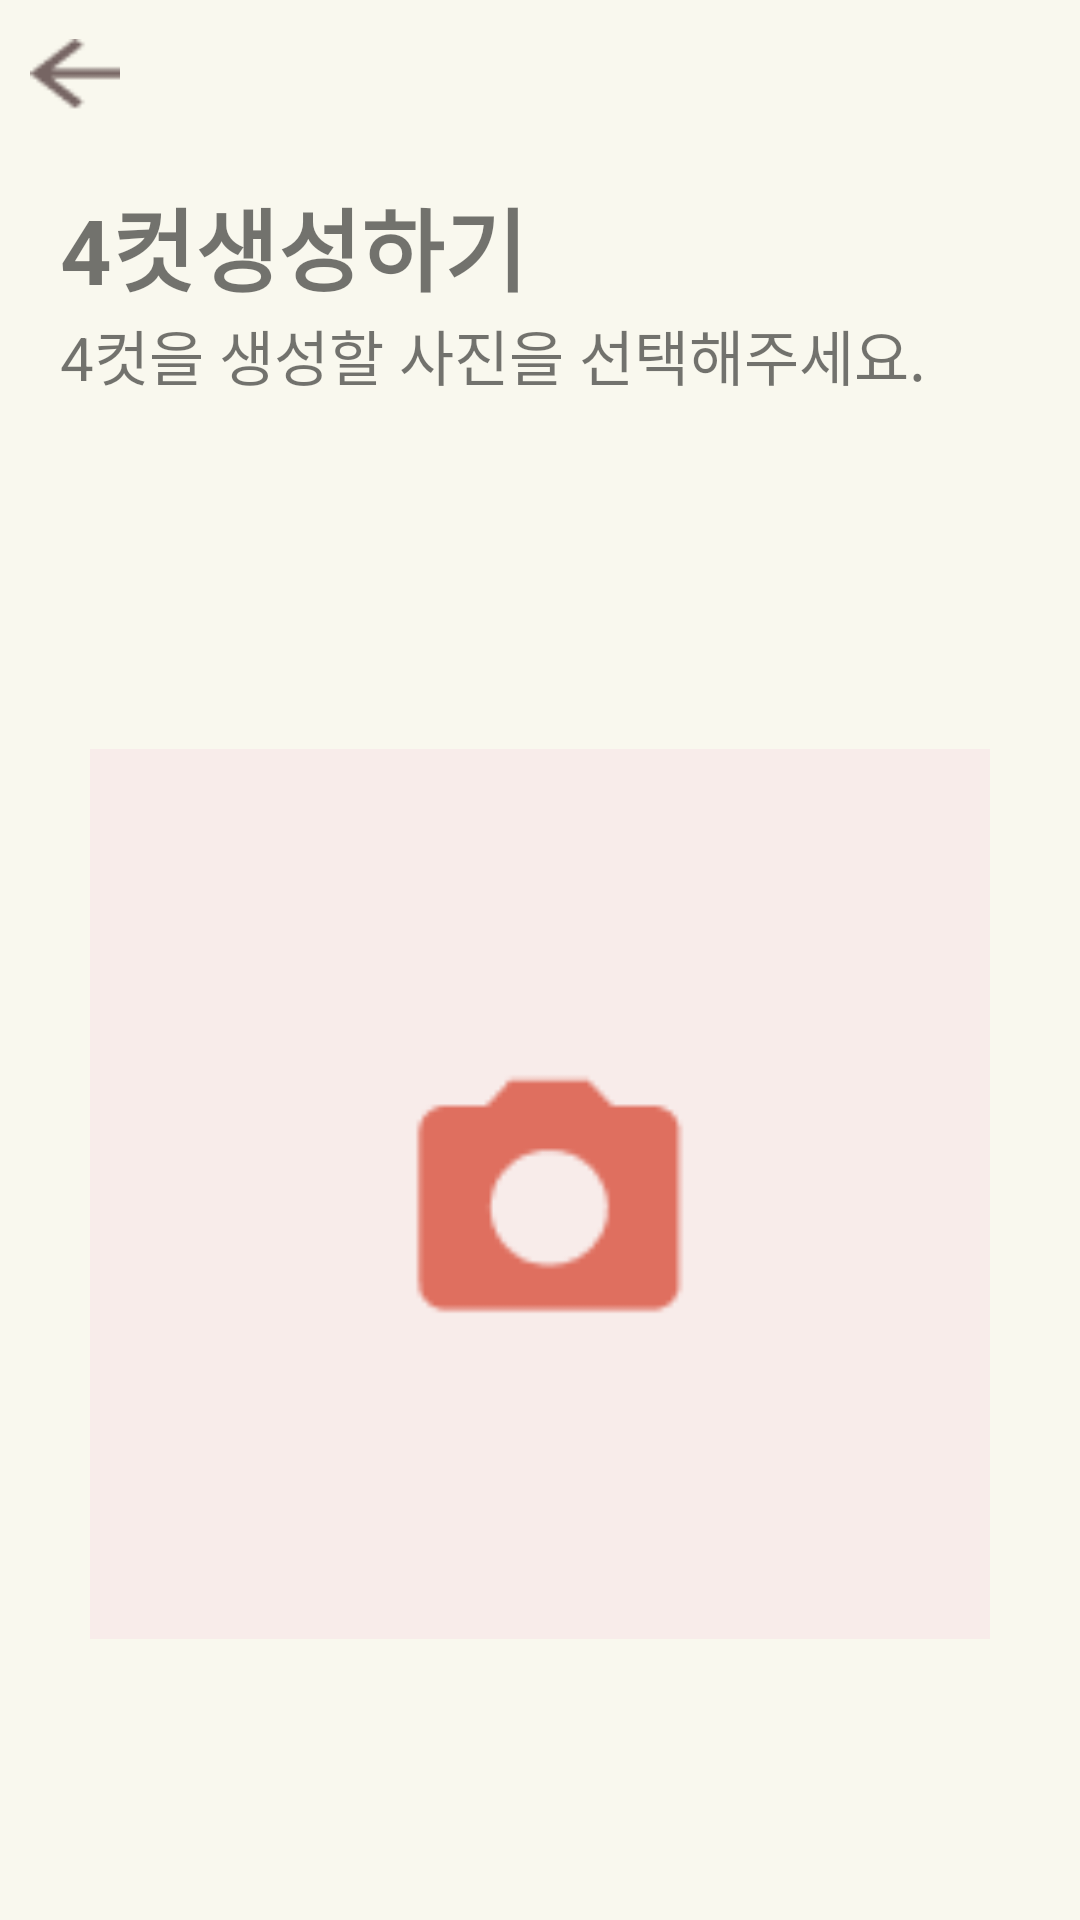

Icon click points for this 1080w x 1920h phone screenshot, format [x,y]:
backarrow: [75,74]
